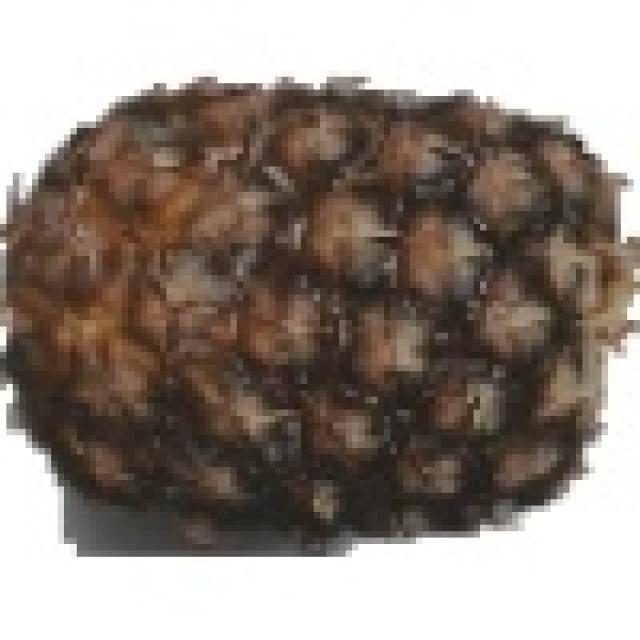pineapple: (26, 70, 634, 525)
